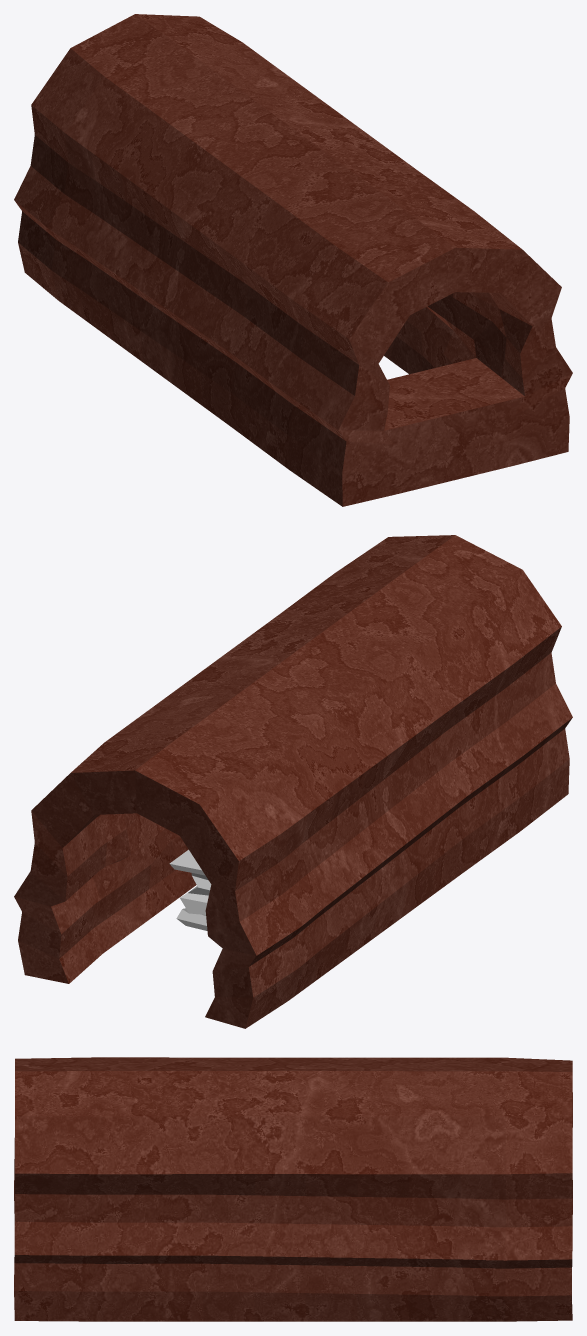
The model's file is Level_intro_meshes.fbx.
The picture shows the model from 3 angles, top to bottom: view 1: azimuth 30°, elevation 25°; view 2: azimuth 150°, elevation 25°; view 3: azimuth 270°, elevation 25°; orthographic projection. The views are drawn at different scales.
Parts seen in each view (by area): view 1: tunnel; view 2: tunnel, Rock_platform; view 3: tunnel.
Boxes of the visible parts, x1,y1,x2,y2 form: tunnel: [14, 14, 572, 506]; tunnel: [14, 535, 572, 1028]; Rock_platform: [169, 849, 211, 930]; tunnel: [14, 1057, 572, 1321].
Bounding box in the file's own units: 841 × 745 × 1857.
